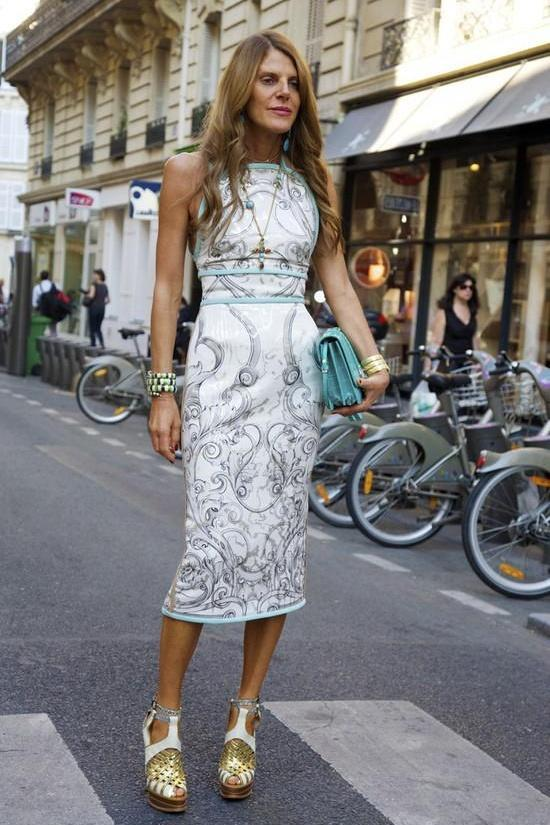dress: (159, 160, 324, 626)
